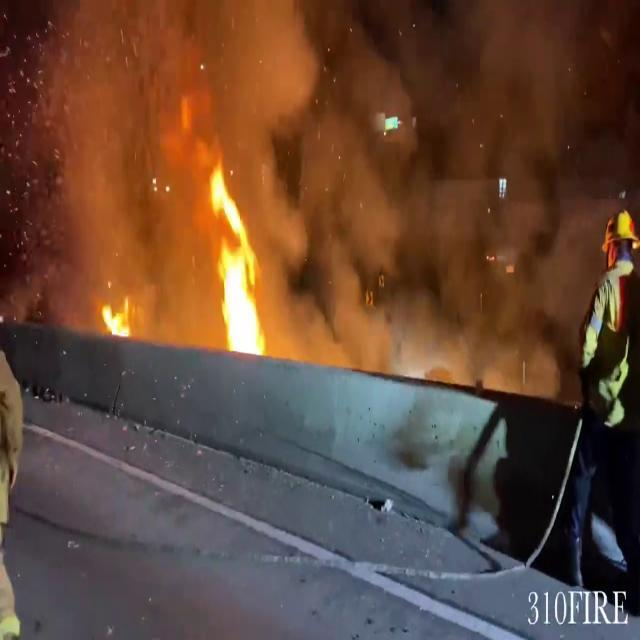Fire: (202, 156, 274, 356), (96, 288, 138, 342)
Smoke: (251, 0, 636, 374), (5, 0, 227, 340)
